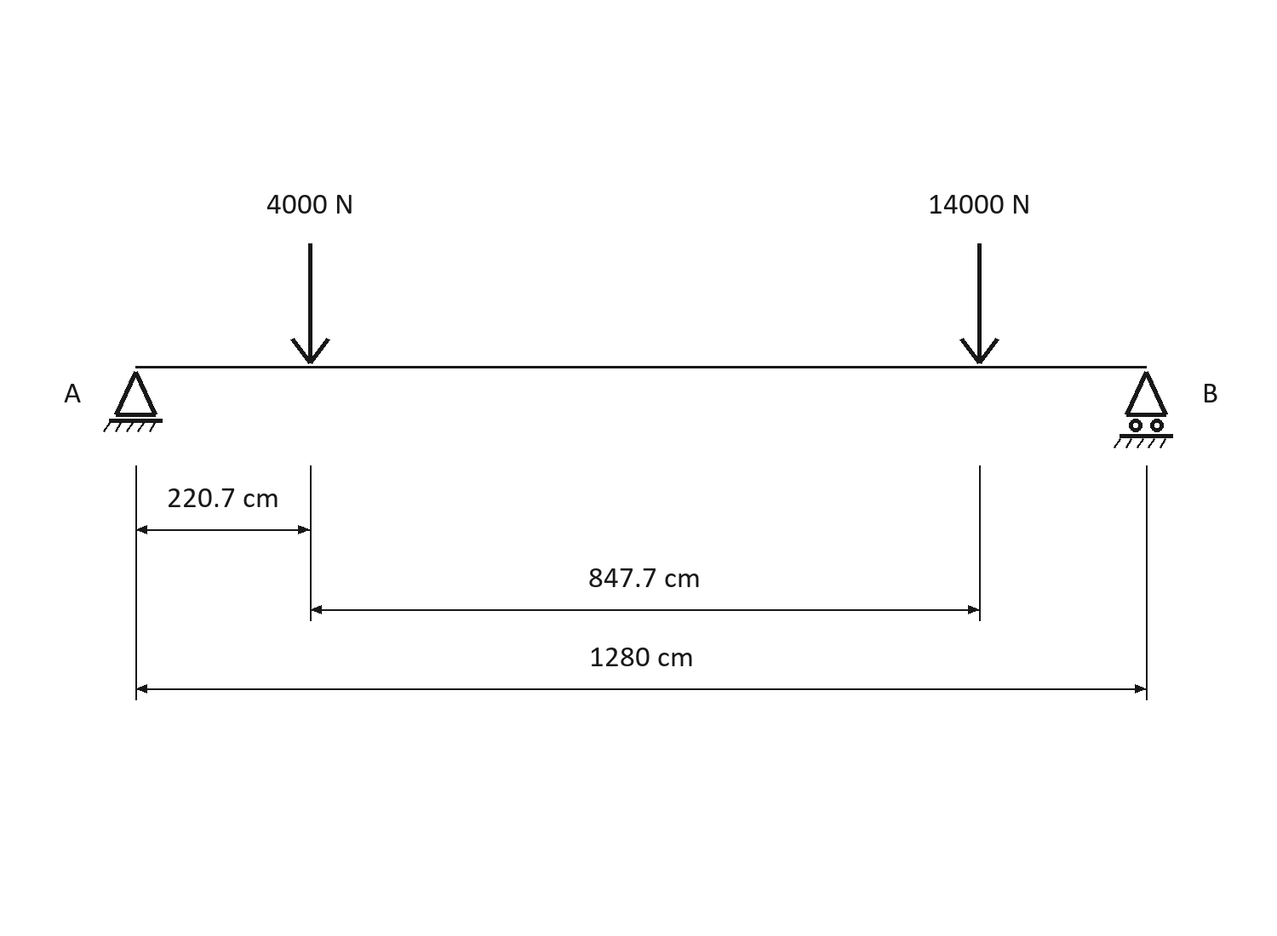pin_support: (103, 371, 163, 432)
point_load: (290, 243, 330, 364), (959, 243, 999, 364)
roller_support: (1114, 371, 1173, 448)
